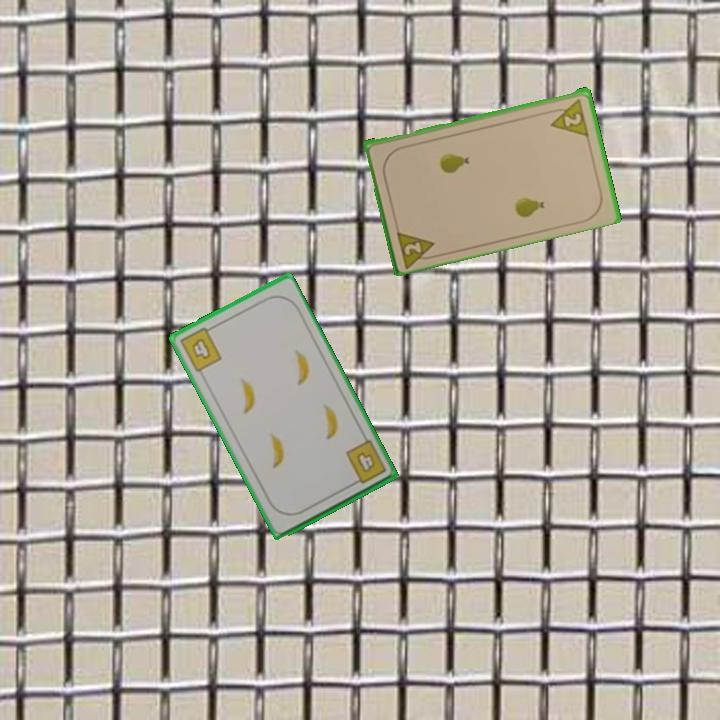2p: (393, 225, 441, 269), (545, 95, 591, 138)
4b: (176, 322, 225, 375), (342, 436, 389, 488)
